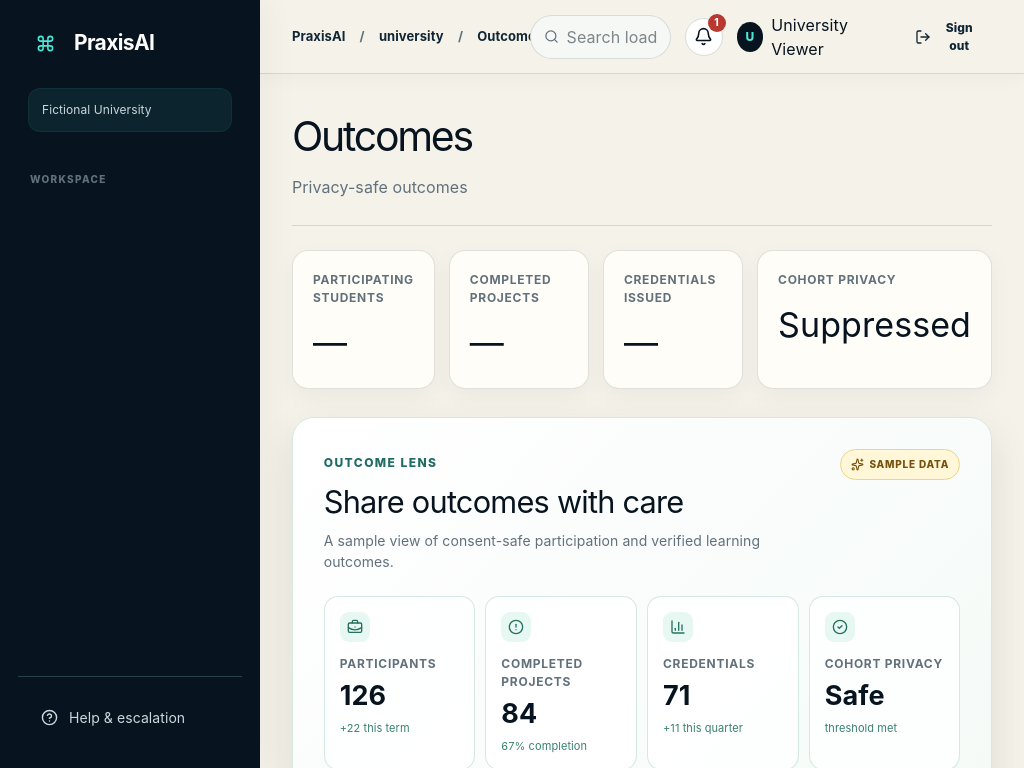
Scenario: AppShell university workspace › uses privacy-safe university endpoints and renders cohort suppression
Click the button named "1 unread notifications". click: (704,36)
box: [685,18,723,56]
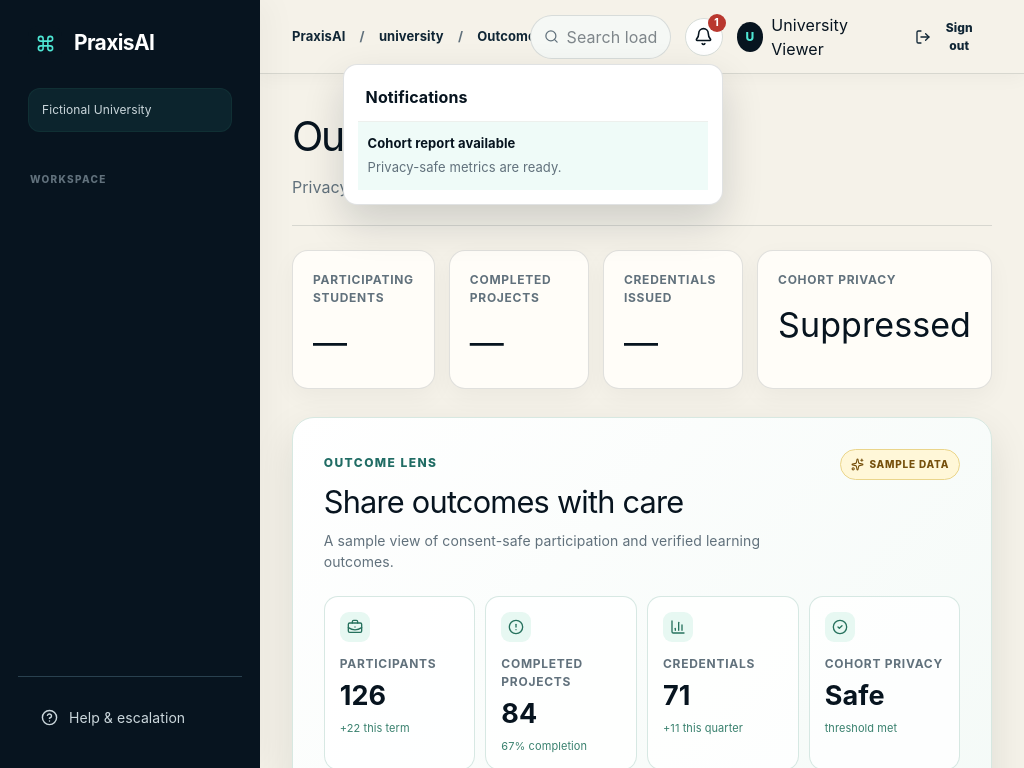
Expected: the text "Cohort report available" is shown, [368,134,515,150]
